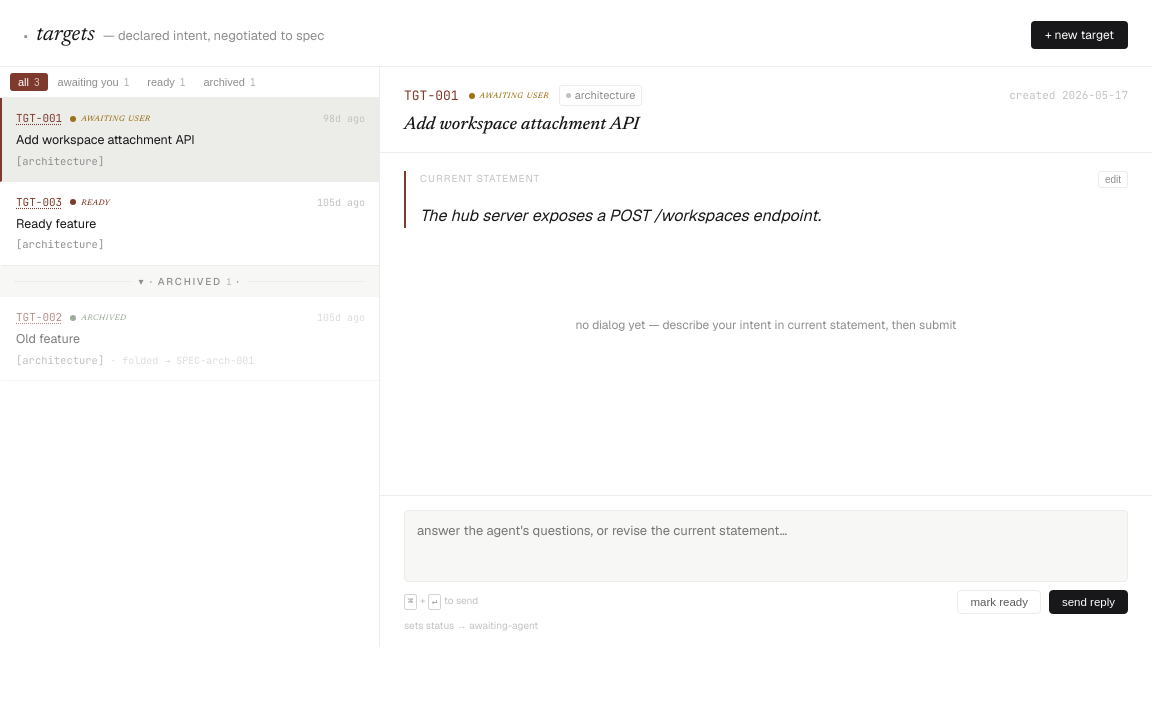
it: Targets list uses ArtifactList for all filter tabs (WI-scr-023) › awaiting-you filter renders only awaiting-user rows via ArtifactList
Click the button "awaiting you 1". click: click(93, 82)
box: [50,73,137,91]
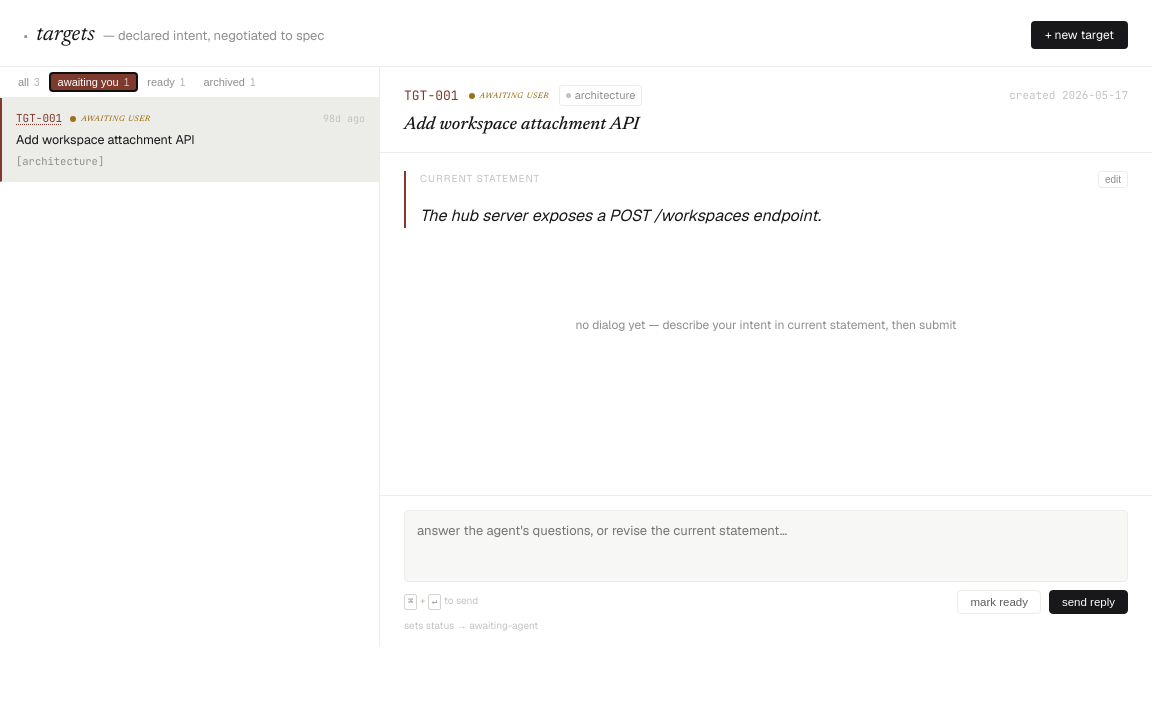
expect the element with class "target-row" shows "Add workspace attachment API": met, box [16,131,195,148]
expect the number of elements with class "target-row" is 1: met, box [0,98,379,182]
